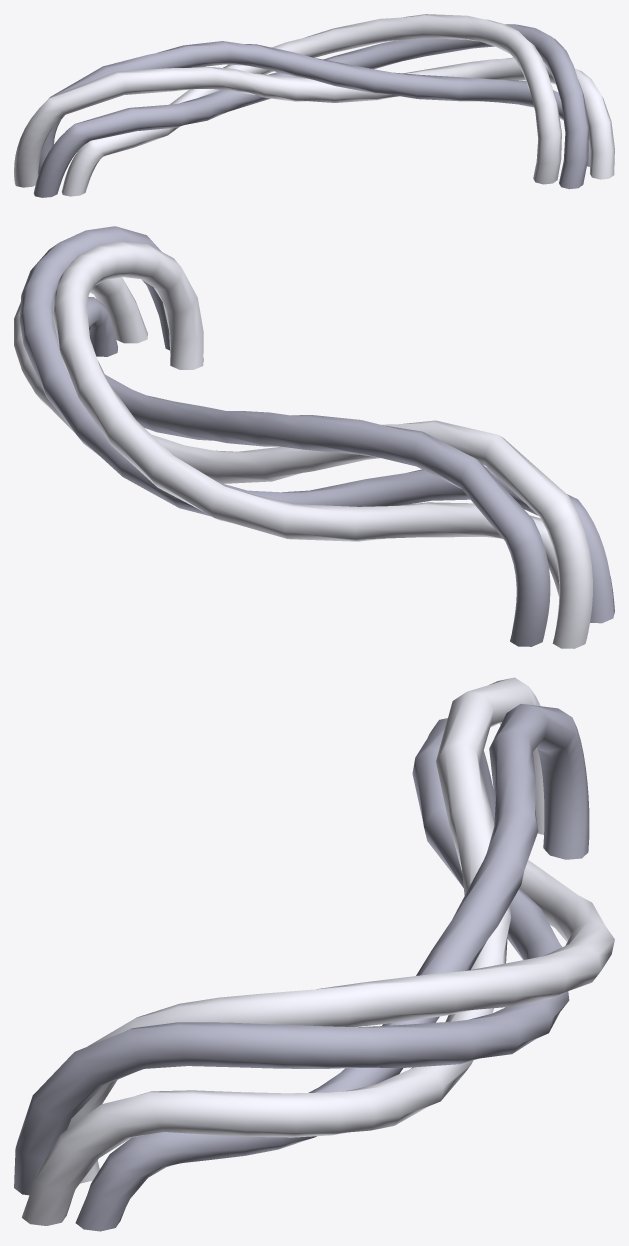
Rendered from Pipe_7.fbx.
The picture shows the model from 3 angles, top to bottom: view 1: azimuth 30°, elevation 25°; view 2: azimuth 150°, elevation 25°; view 3: azimuth 270°, elevation 25°; orthographic projection. The views are drawn at different scales.
Visible parts, largest first — view 1: Pipe_7; view 2: Pipe_7; view 3: Pipe_7.
Boxes of the visible parts, x1,y1,x2,y2 form: Pipe_7: (14,14,614,197); Pipe_7: (14,226,614,648); Pipe_7: (14,677,614,1231).
Bounding box in the file's own units: 11.96 × 2.68 × 7.15.
